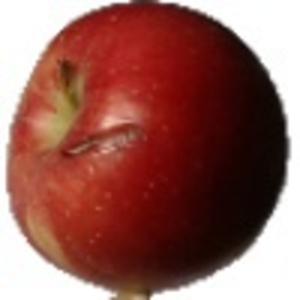maçã braeburn: (2, 1, 289, 291)
